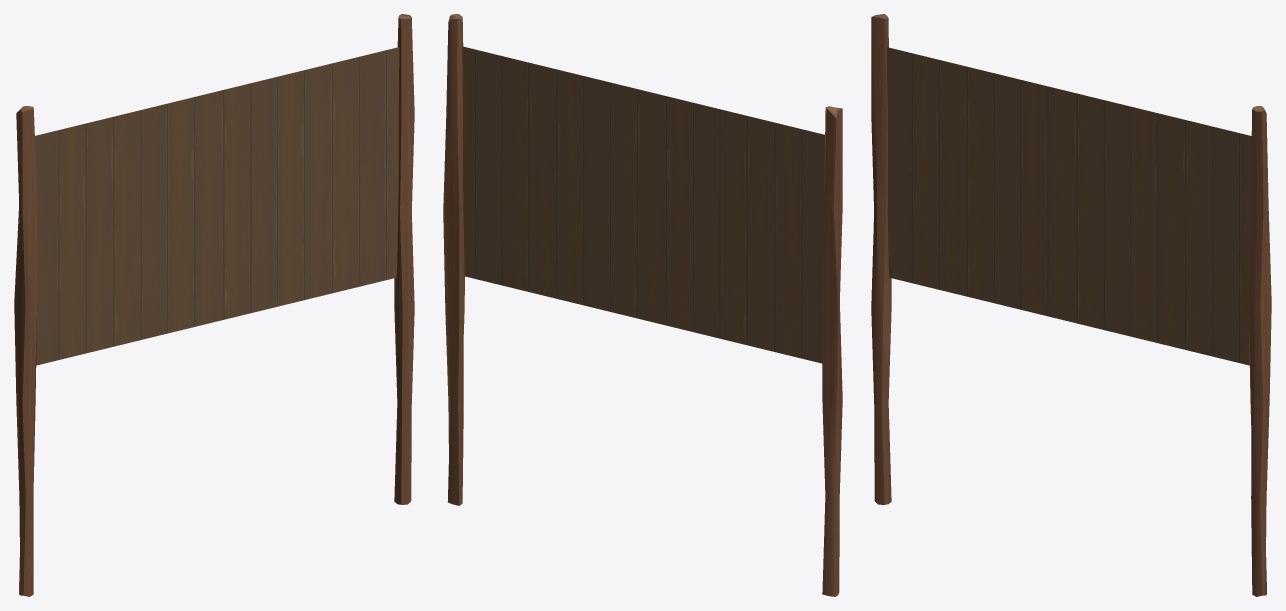
File: frufru2.fbx
The picture shows the model from 3 angles, left to right: view 1: azimuth 30°, elevation 25°; view 2: azimuth 150°, elevation 25°; view 3: azimuth 330°, elevation 25°; orthographic projection.
Parts seen in each view (by area): view 1: Placa-de-aviso; view 2: Placa-de-aviso; view 3: Placa-de-aviso.
Part boxes in pixels (x1,y1,x2,y2): Placa-de-aviso: (14,14,414,596); Placa-de-aviso: (443,14,842,596); Placa-de-aviso: (871,14,1271,596).
Size of the model in its own units: 138 by 162 by 5.1.
